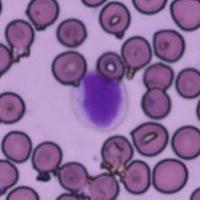L: (69, 69, 129, 132)
